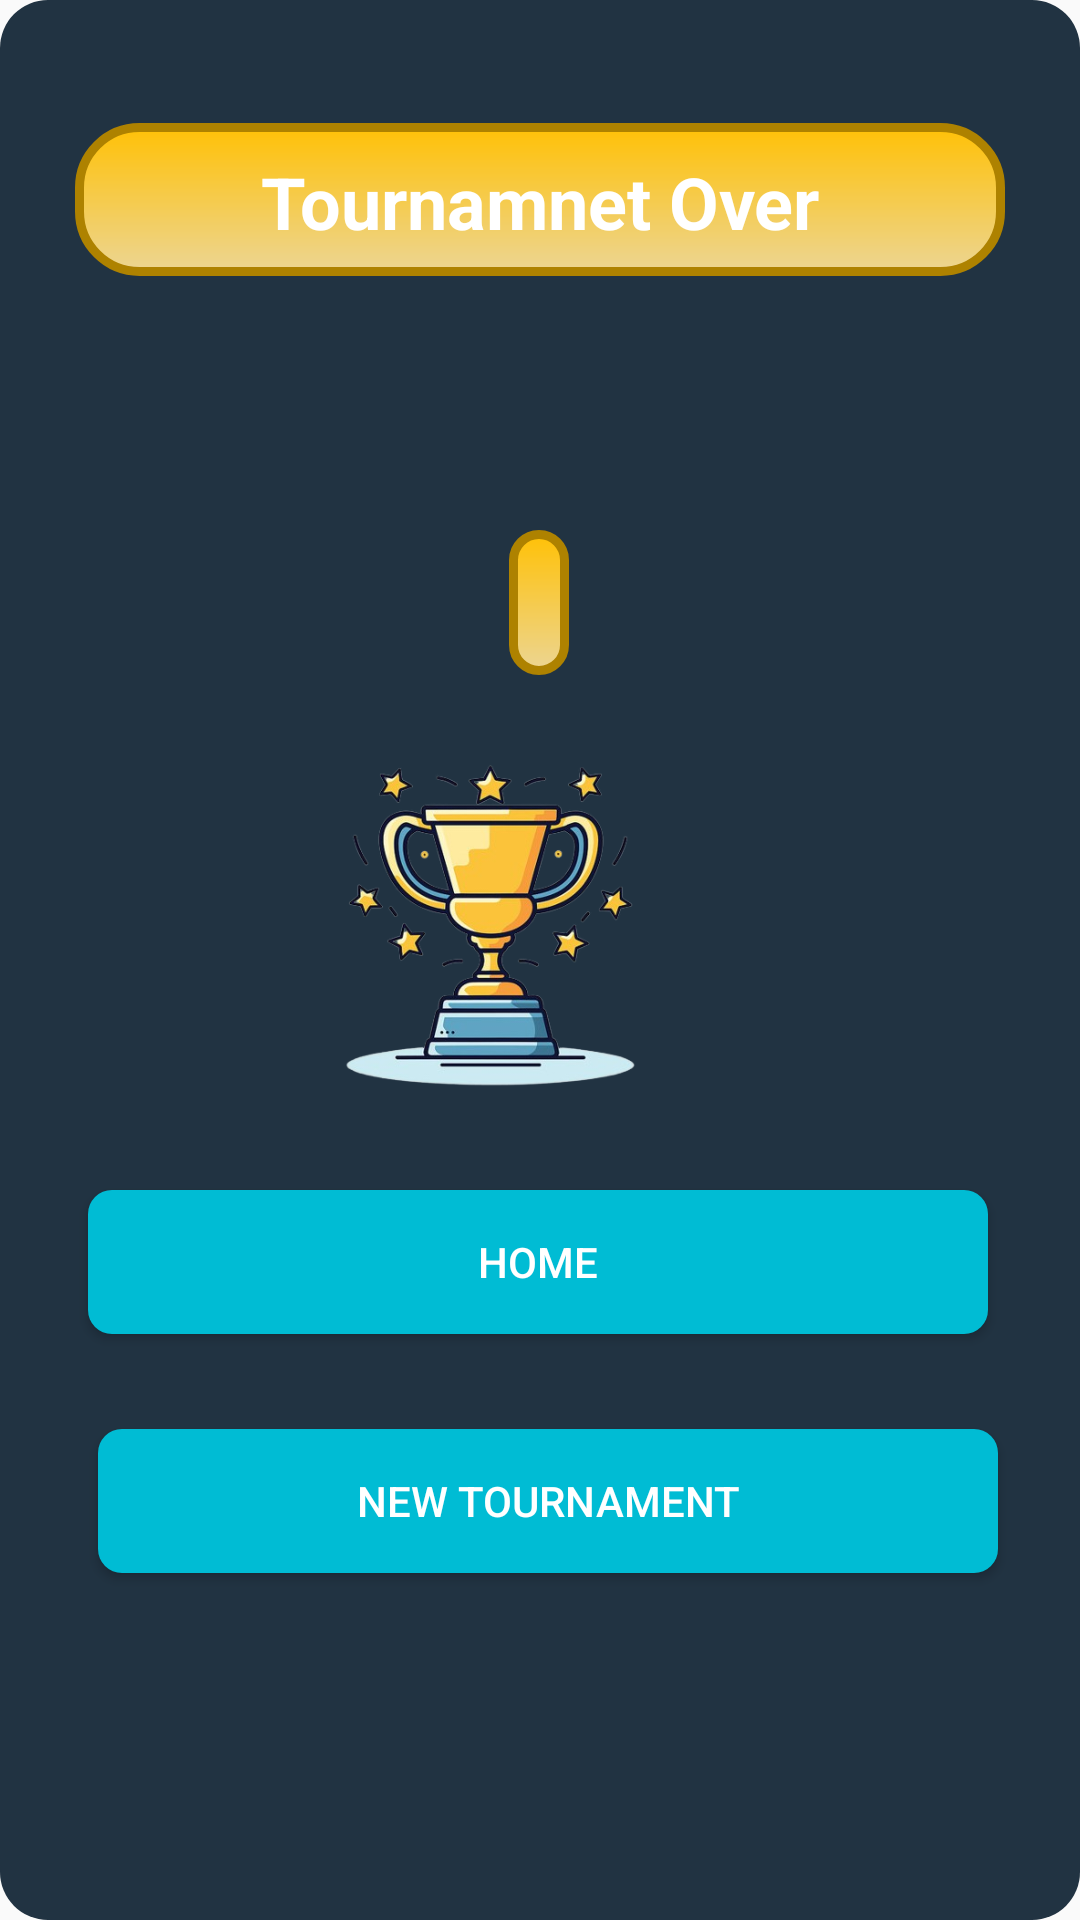

Locate icon controls on the screen. Image size 1080*1920, boxes as (x1, y1, x2, y2).
trophy: (346, 765, 635, 1086)
